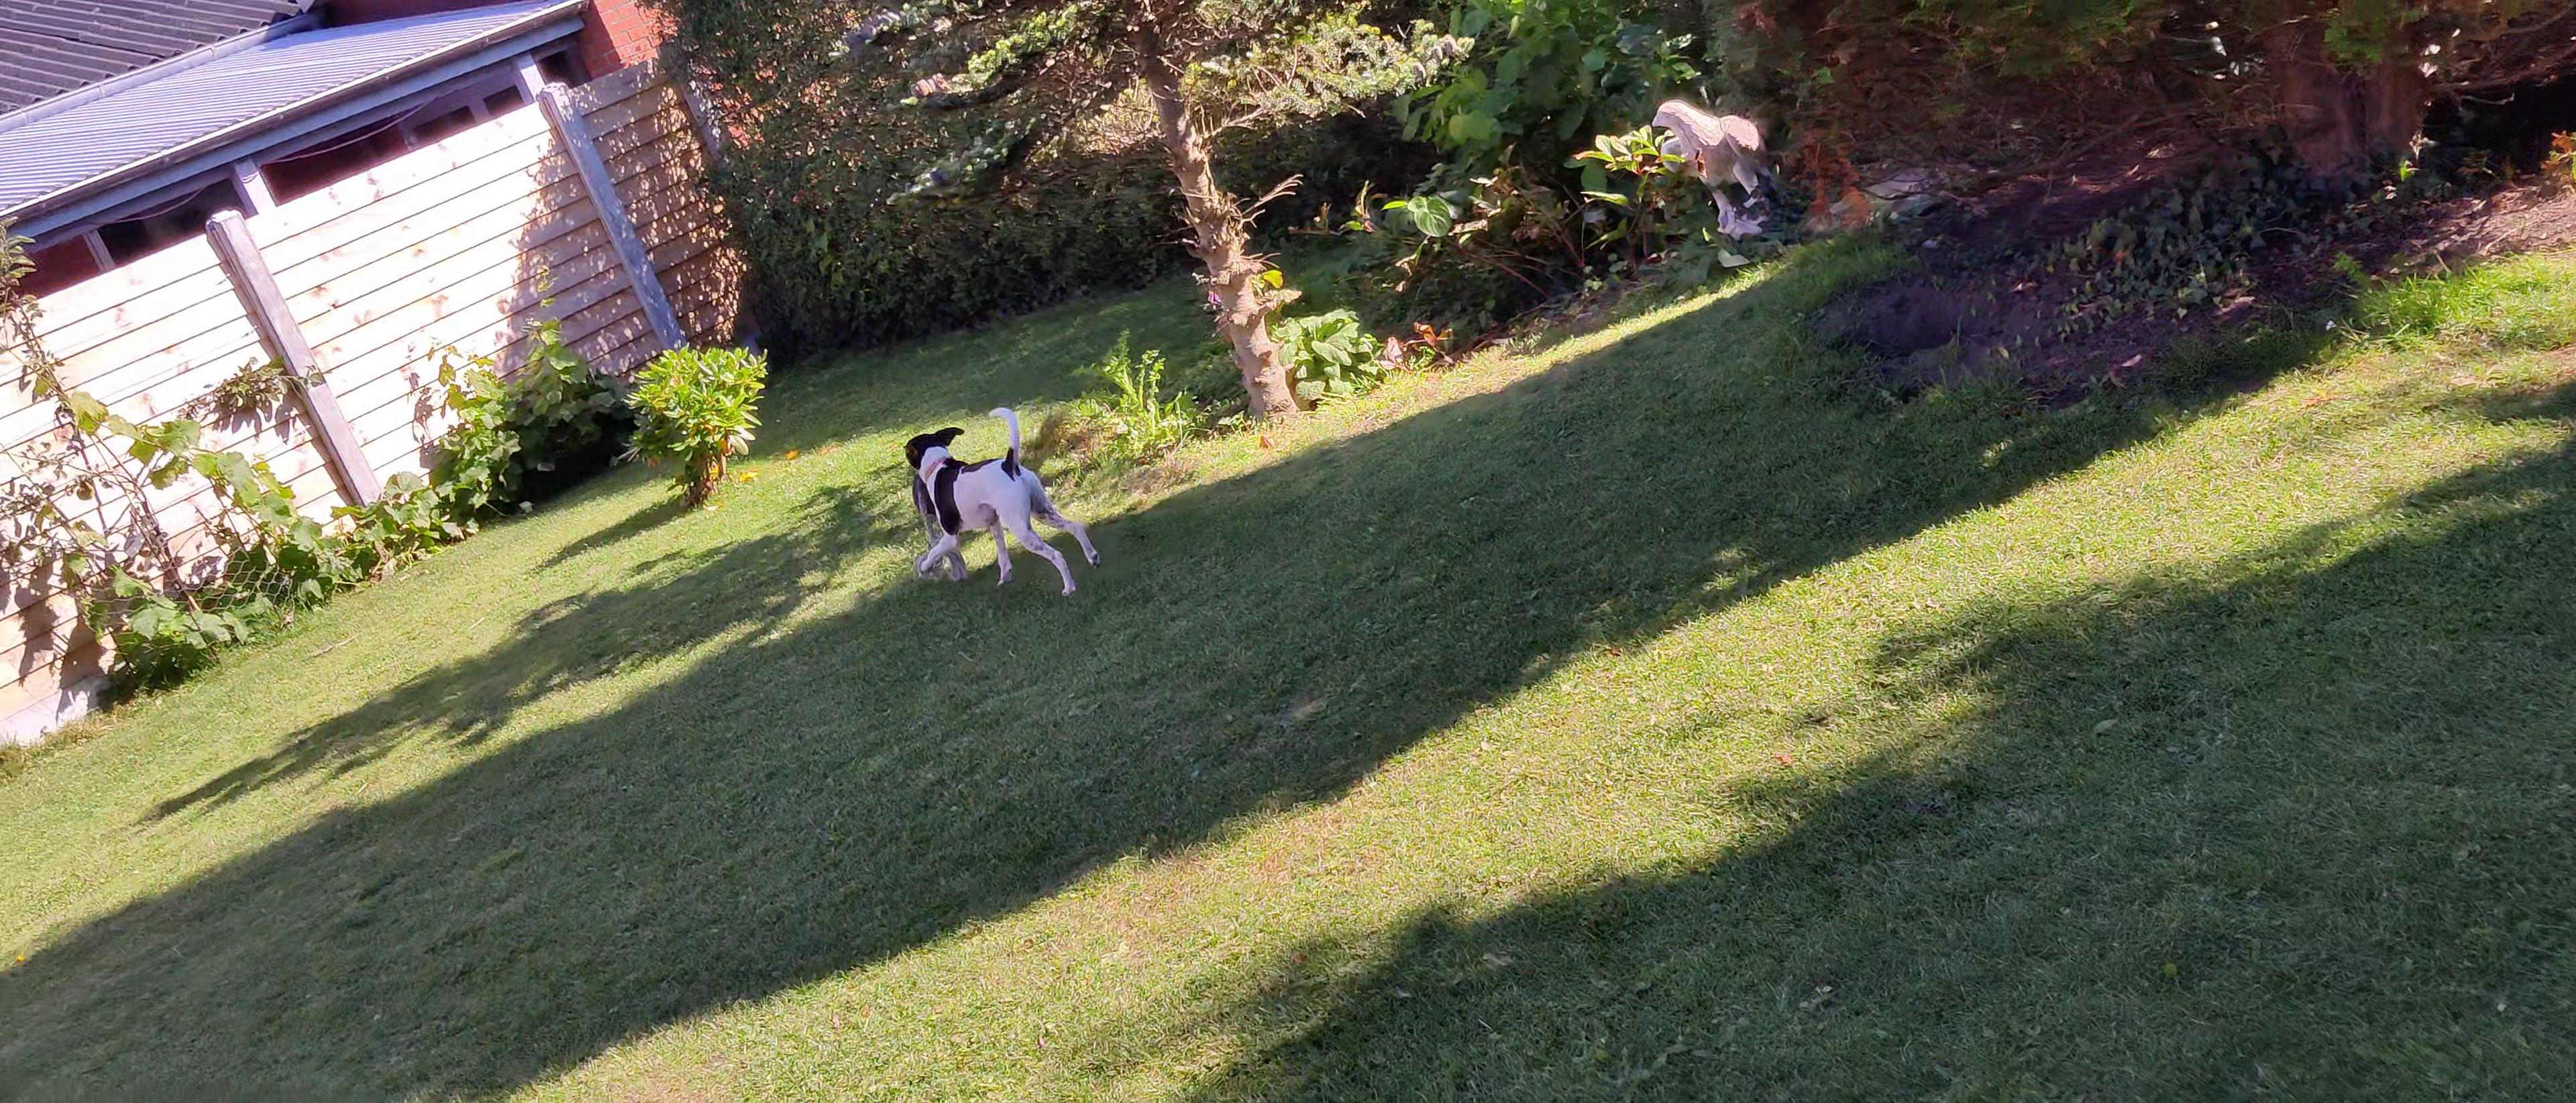Dog: (900, 401, 1102, 603)
